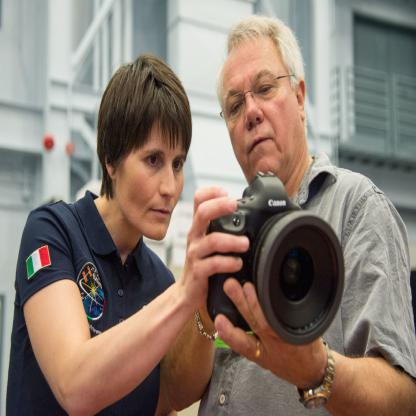Camera: (207, 174, 348, 368)
